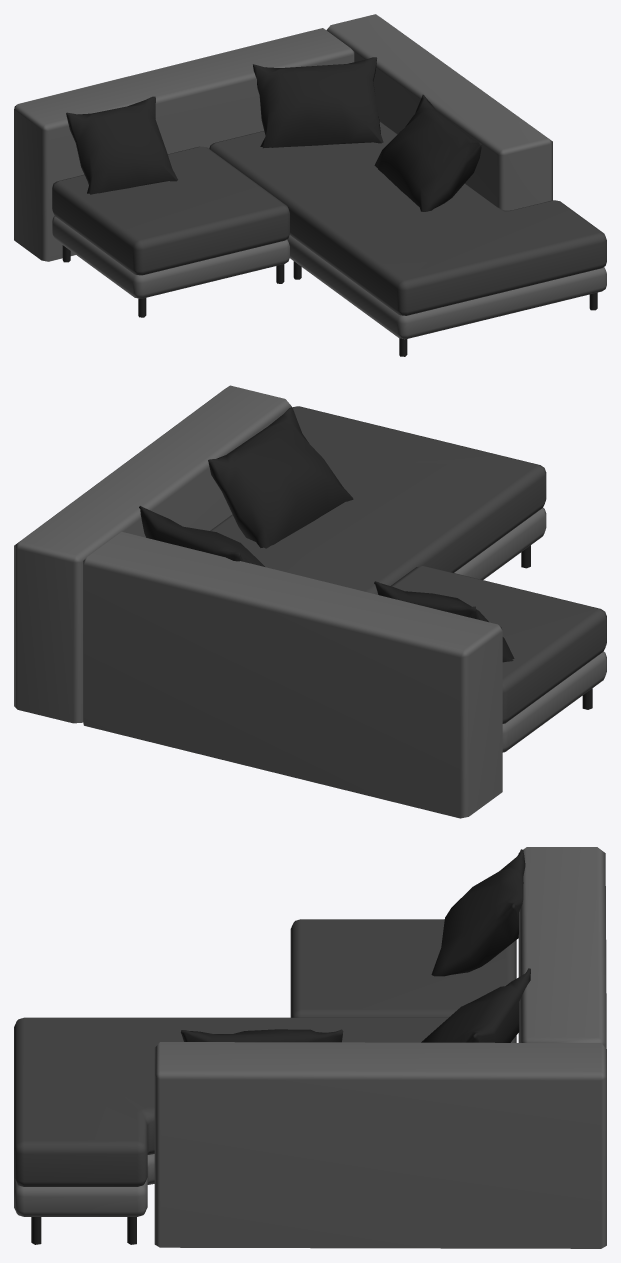
File: sofa_028.fbx
3 renders of one model, top to bottom at view 1: azimuth 30°, elevation 25°; view 2: azimuth 150°, elevation 25°; view 3: azimuth 270°, elevation 25°, orthographic. The views are drawn at different scales.
Visible parts, largest first — view 1: sofa_028; view 2: sofa_028; view 3: sofa_028.
Boxes of the visible parts, x1,y1,x2,y2 form: sofa_028: (14,14,606,356); sofa_028: (14,385,606,818); sofa_028: (14,847,606,1248).
Size of the model in its own units: 265 by 287 by 98.5.
